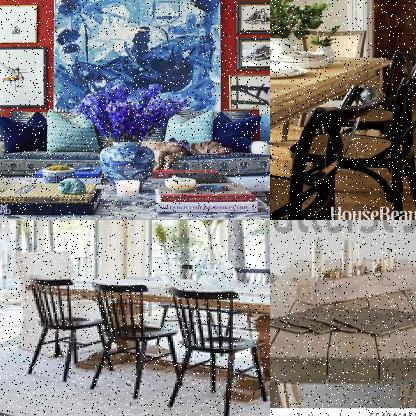table: (17, 272, 269, 406), (270, 39, 397, 219), (270, 254, 415, 410), (0, 172, 269, 219)
